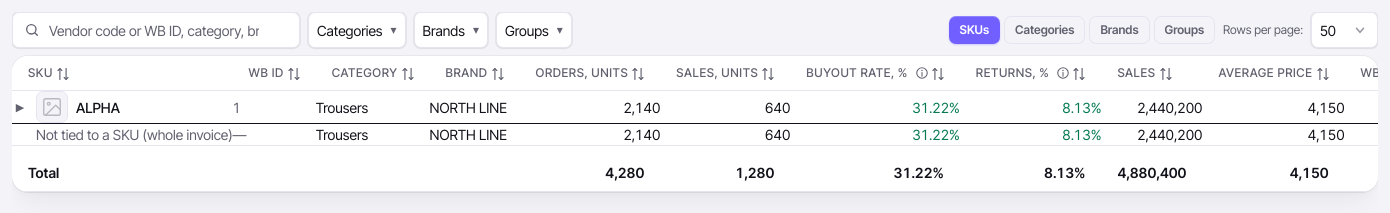
it: per-SKU rows › hides the account-level bucket while a filter is active
The image size is (1390, 213).
Type "alpha" into the search field with placeholder "Vendor code or WB ID, category, brand" at (156, 30), box x1=12 y1=12 x2=300 y2=48
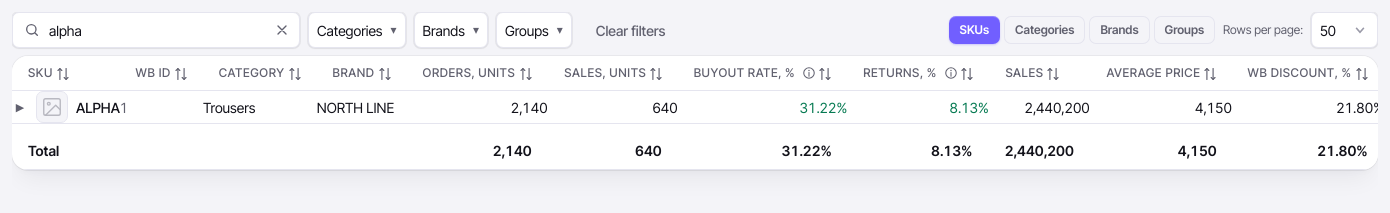
expect the text "Not tied to a SKU" is gone: met
